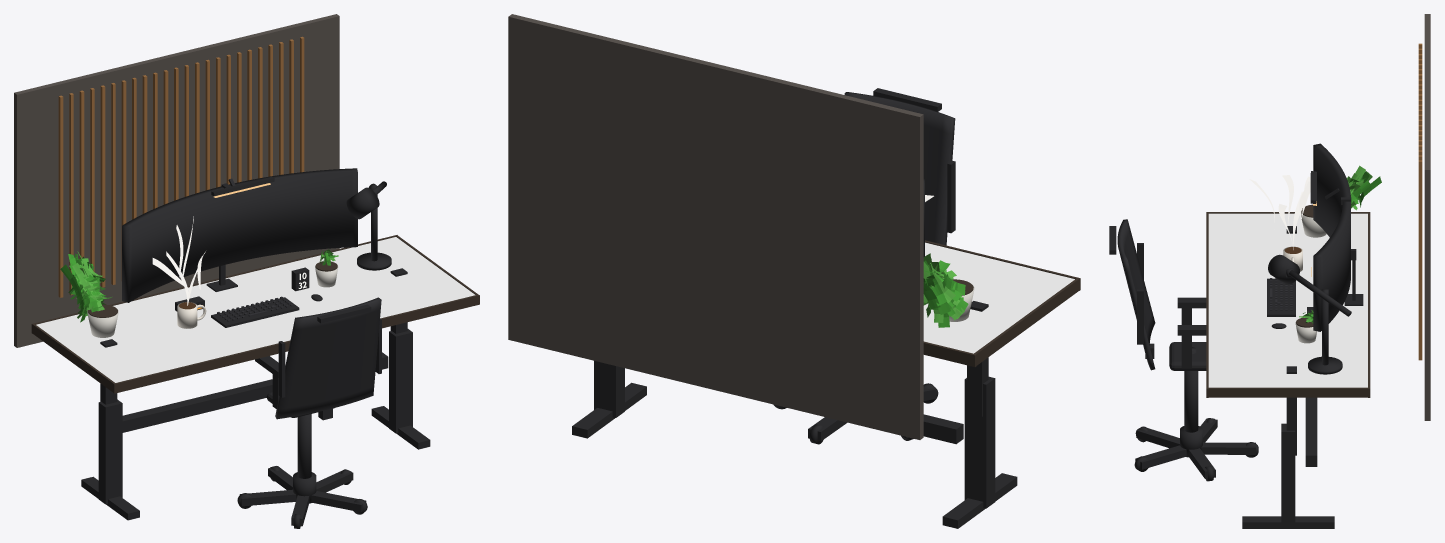
Rendered from projects-desk.glb.
3 renders of one model, left to right at view 1: azimuth 30°, elevation 25°; view 2: azimuth 150°, elevation 25°; view 3: azimuth 270°, elevation 25°, orthographic. The views are drawn at different scales.
Parts seen in each view (by area): view 1: BackWall, Desk_Top, SlatPanel, Monitor_Body, Chair_Back, Edge_Front, Crossbar, ColLo_L, ColLo_R, PlantL_Foliage, KB_Base, Edge_Left (+8 smaller); view 2: BackWall, Desk_Top, Chair_Back, ColLo_L, PlantL_Foliage, Edge_Left, ColLo_R, Foot_L, Foot_R, ColUp_L, Crossbar, Edge_Back; view 3: Desk_Top, Monitor_Body, BackWall, Chair_Back, Edge_Right, SlatPanel, ColLo_R, Foot_R, Chair_GasCyl, Crossbar, KB_Base, Chair_Seat (+14 smaller).
Part boxes in pixels (x1,y1,x2,y2): BackWall: [14, 14, 339, 347]; Desk_Top: [36, 237, 475, 382]; SlatPanel: [58, 36, 304, 297]; Monitor_Body: [122, 168, 357, 302]; Chair_Back: [275, 297, 381, 419]; Edge_Front: [113, 295, 479, 393]; Crossbar: [122, 352, 388, 432]; ColLo_L: [98, 399, 122, 504]; ColLo_R: [389, 329, 412, 433]; PlantL_Foliage: [60, 251, 112, 322]; KB_Base: [211, 297, 299, 327]; Edge_Left: [33, 324, 115, 392]; BackWall: [508, 14, 923, 439]; Desk_Top: [923, 242, 1074, 353]; Chair_Back: [844, 92, 955, 245]; ColLo_L: [964, 376, 995, 508]; PlantL_Foliage: [923, 253, 968, 327]; Edge_Left: [974, 278, 1078, 365]; ColLo_R: [594, 361, 624, 417]; Foot_L: [942, 473, 1017, 528]; Foot_R: [572, 382, 646, 438]; ColUp_L: [967, 301, 988, 416]; Crossbar: [923, 414, 963, 444]; Edge_Back: [923, 341, 976, 366]; Desk_Top: [1208, 213, 1367, 387]; Monitor_Body: [1313, 143, 1350, 331]; BackWall: [1424, 14, 1430, 420]; Chair_Back: [1117, 219, 1155, 370]; Edge_Right: [1208, 387, 1367, 397]; SlatPanel: [1418, 43, 1422, 360]; ColLo_R: [1281, 423, 1295, 527]; Foot_R: [1242, 516, 1334, 528]; Chair_GasCyl: [1184, 371, 1198, 432]; Crossbar: [1305, 397, 1317, 466]; KB_Base: [1267, 278, 1295, 316]; Chair_Seat: [1169, 342, 1206, 370].
Bounding box in the file's own units: 1.81 × 1.72 × 1.39.
